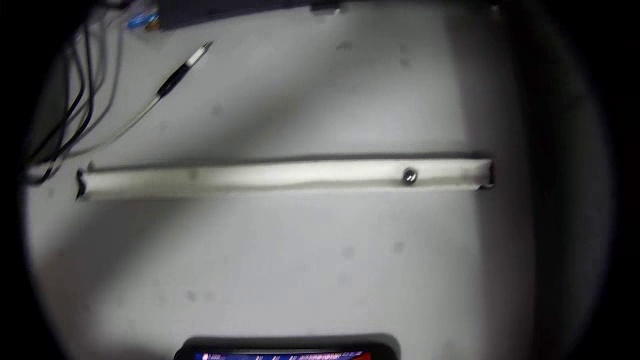gangzhu: (411, 169, 427, 187)
